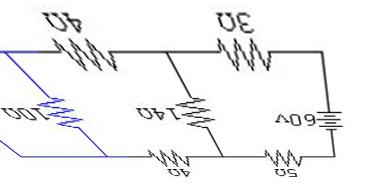resistor: (44, 33, 121, 72), (37, 89, 86, 131), (172, 88, 212, 132), (144, 143, 197, 166), (257, 145, 307, 167)
